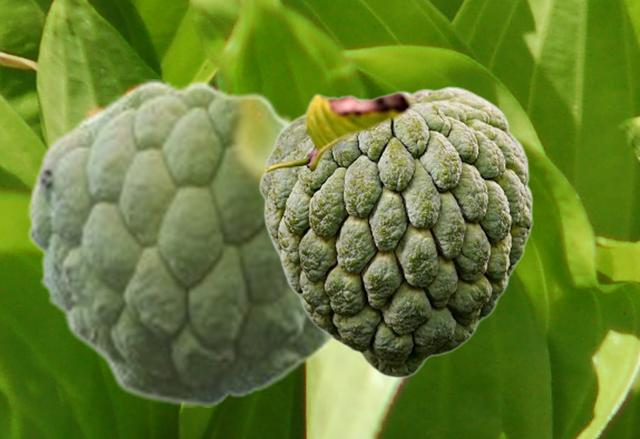atis: (26, 79, 336, 406), (258, 85, 532, 377)
